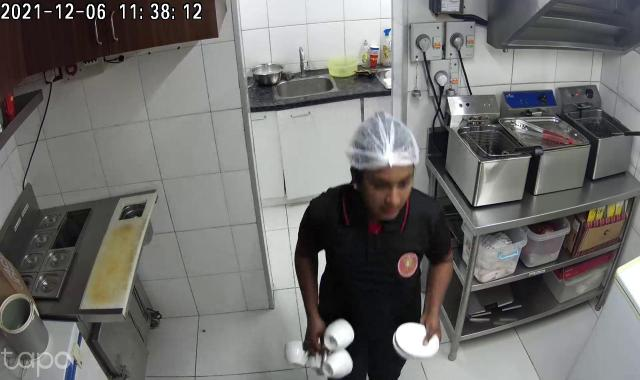hairnet: (343, 113, 419, 175)
